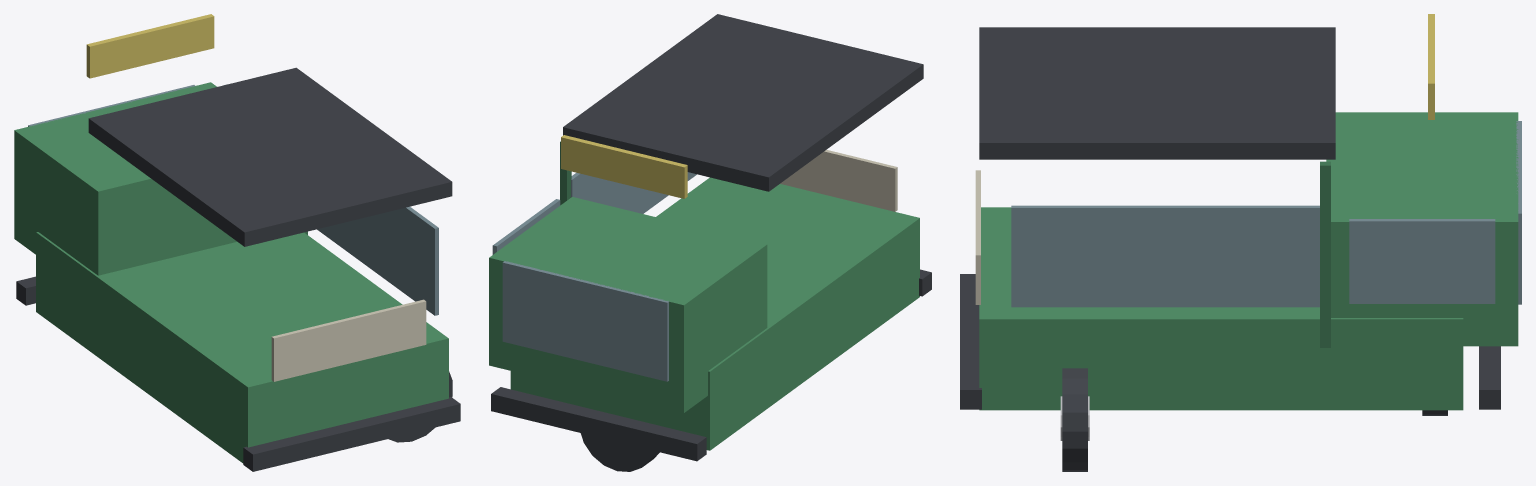
File: cng.glb
3 renders of one model, left to right at view 1: azimuth 30°, elevation 25°; view 2: azimuth 150°, elevation 25°; view 3: azimuth 270°, elevation 25°, orthographic. The views are drawn at different scales.
Parts seen in each view (by area): view 1: cng; view 2: cng; view 3: cng.
Boxes of the visible parts, <box> form: cng: <box>14,14,460,471</box>; cng: <box>489,14,931,471</box>; cng: <box>960,14,1521,471</box>.
Bounding box in the file's own units: 1.77 × 2.19 × 3.08.
